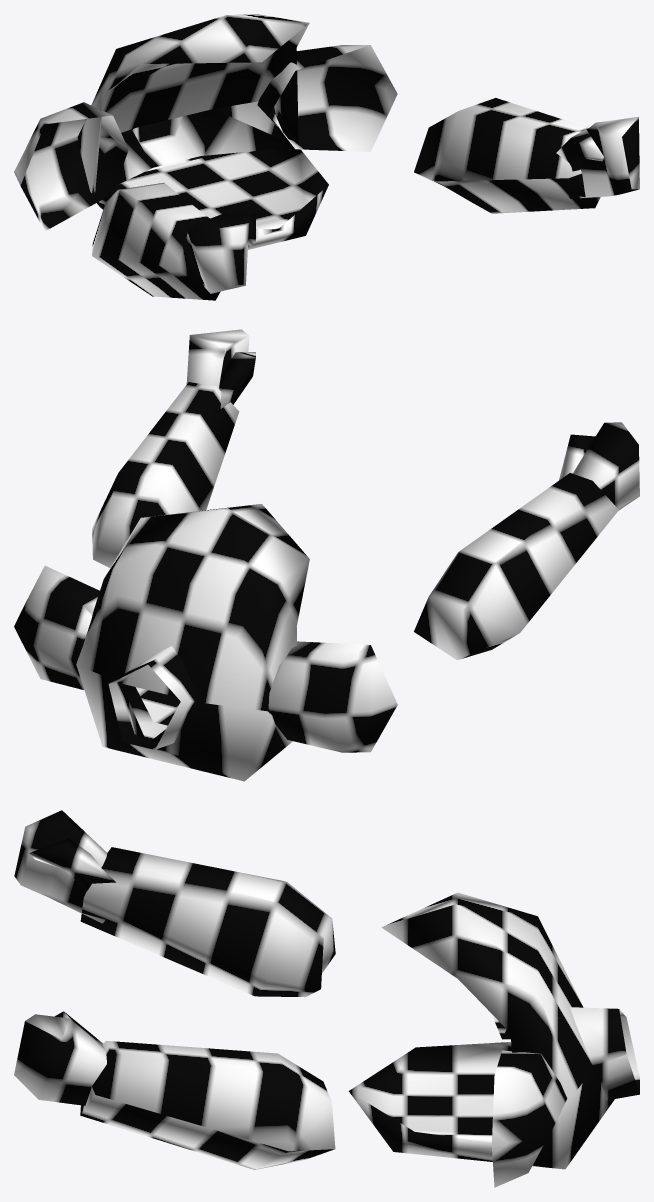
File: initarpl4.dae
3 renders of one model, top to bottom at view 1: azimuth 30°, elevation 25°; view 2: azimuth 150°, elevation 25°; view 3: azimuth 270°, elevation 25°, orthographic. The views are drawn at different scales.
Visible parts, largest first — view 1: armor; view 2: armor; view 3: armor.
Part boxes in pixels (x1,y1,x2,y2): armor: (14, 14, 639, 300); armor: (14, 329, 639, 781); armor: (14, 810, 639, 1187).
Bounding box in the file's own units: 1.64 × 1.89 × 0.8091.
Materials: 1 (1 with a texture image).
